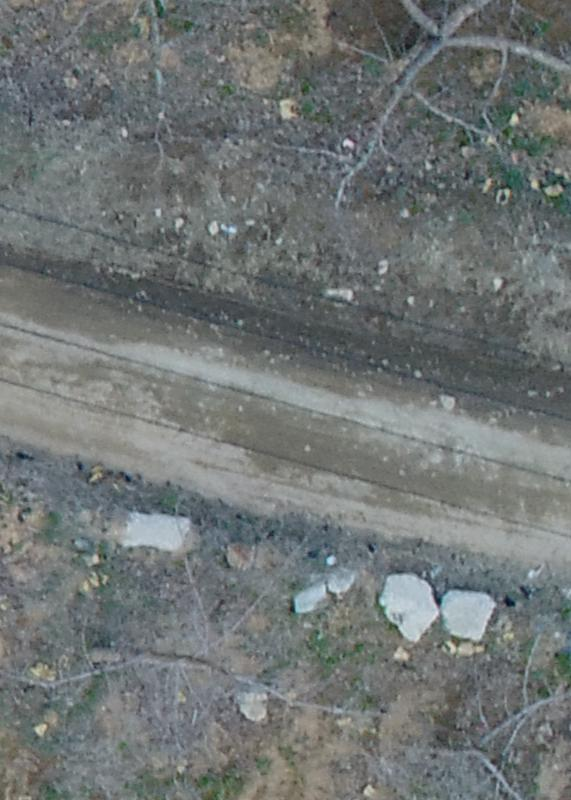apple: (39, 570, 364, 760), (337, 10, 561, 209), (385, 636, 561, 790)
